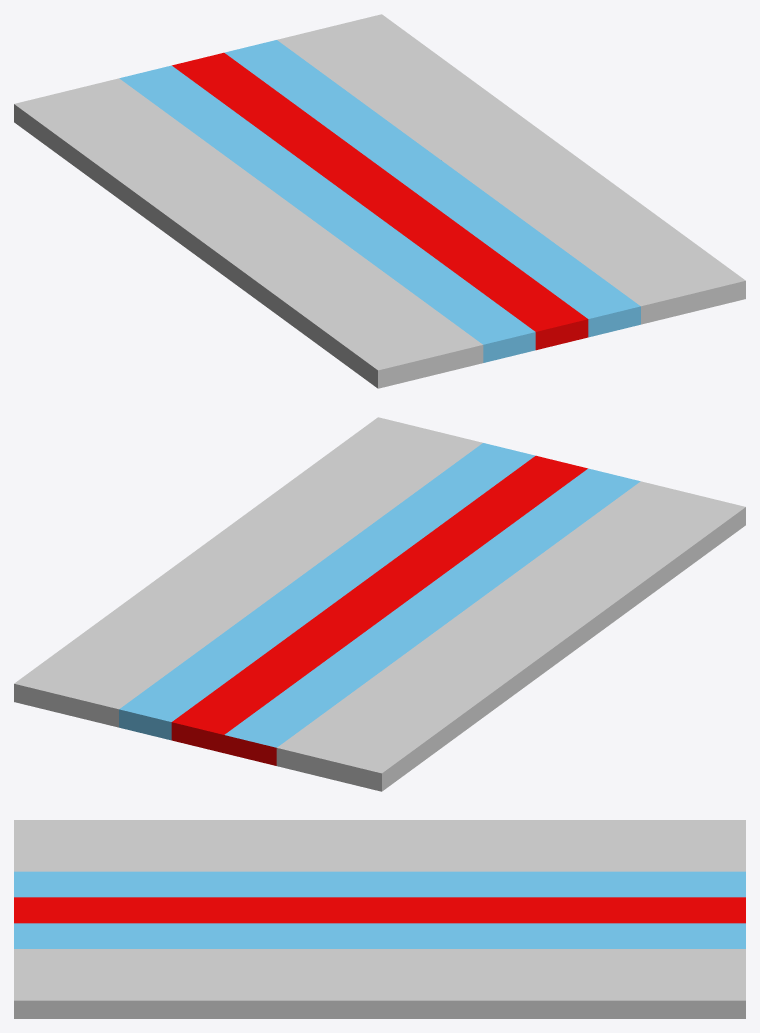
File: ER_LevelSegment_V2.fbx
3 views of the same model, one above another, from view 1: azimuth 30°, elevation 25°; view 2: azimuth 150°, elevation 25°; view 3: azimuth 270°, elevation 25° (orthographic).
Parts seen in each view (by area): view 1: Row 34-36_6, Row 34-36, Row 34-36_4, Row 34-36_7, Row 34-36_8, Row 34-36_1, Row 34-36_3, Row 4-6_6, Row 7-9_6, Row 10-12_6, Row 19-21_6, Row 28-30_6 (+72 smaller); view 2: Row 1-3_6, Row 1-3, Row 1-3_5, Row 1-3_7, Row 1-3_8, Row 1-3_1, Row 1-3_3, Row 31-33_6, Row 25-27_6, Row 28-30_6, Row 7-9_6, Row 16-18_6 (+72 smaller); view 3: Row 34-36_3, Row 1-3_3, Row 4-6_3, Row 7-9_3, Row 10-12_3, Row 13-15_3, Row 16-18_3, Row 19-21_3, Row 22-24_3, Row 25-27_3, Row 28-30_3, Row 31-33_3 (+72 smaller).
Boxes of the visible parts, x1,y1,x2,y2 form: Row 34-36_6: (347, 335, 430, 388); Row 34-36: (505, 297, 588, 350); Row 34-36_4: (400, 322, 483, 375); Row 34-36_7: (558, 284, 640, 337); Row 34-36_8: (453, 310, 535, 362); Row 34-36_1: (611, 271, 693, 324); Row 34-36_3: (663, 258, 745, 311); Row 4-6_6: (44, 113, 126, 166); Row 7-9_6: (74, 135, 157, 188); Row 10-12_6: (105, 158, 187, 210); Row 19-21_6: (196, 224, 278, 277); Row 28-30_6: (287, 291, 369, 343); Row 1-3_6: (329, 738, 412, 791); Row 1-3: (171, 700, 254, 753); Row 1-3_5: (276, 725, 359, 778); Row 1-3_7: (119, 687, 201, 740); Row 1-3_8: (224, 713, 306, 765); Row 1-3_1: (66, 674, 148, 727); Row 1-3_3: (14, 661, 96, 714); Row 31-33_6: (633, 516, 715, 569); Row 25-27_6: (572, 561, 654, 613); Row 28-30_6: (602, 538, 685, 591); Row 7-9_6: (390, 694, 472, 746); Row 16-18_6: (481, 627, 563, 680); Row 34-36_3: (14, 974, 74, 1018); Row 1-3_3: (685, 974, 745, 1018); Row 4-6_3: (624, 974, 684, 1018); Row 7-9_3: (563, 974, 623, 1018); Row 10-12_3: (502, 974, 562, 1018); Row 13-15_3: (441, 974, 501, 1018); Row 16-18_3: (380, 974, 440, 1018); Row 19-21_3: (319, 974, 379, 1018); Row 22-24_3: (258, 974, 318, 1018); Row 25-27_3: (197, 974, 257, 1018); Row 28-30_3: (136, 974, 196, 1018); Row 31-33_3: (75, 974, 135, 1018).
Bounding box in the file's own units: 2100 × 100 × 3600.
Materials: 2 (2 with a texture image).
